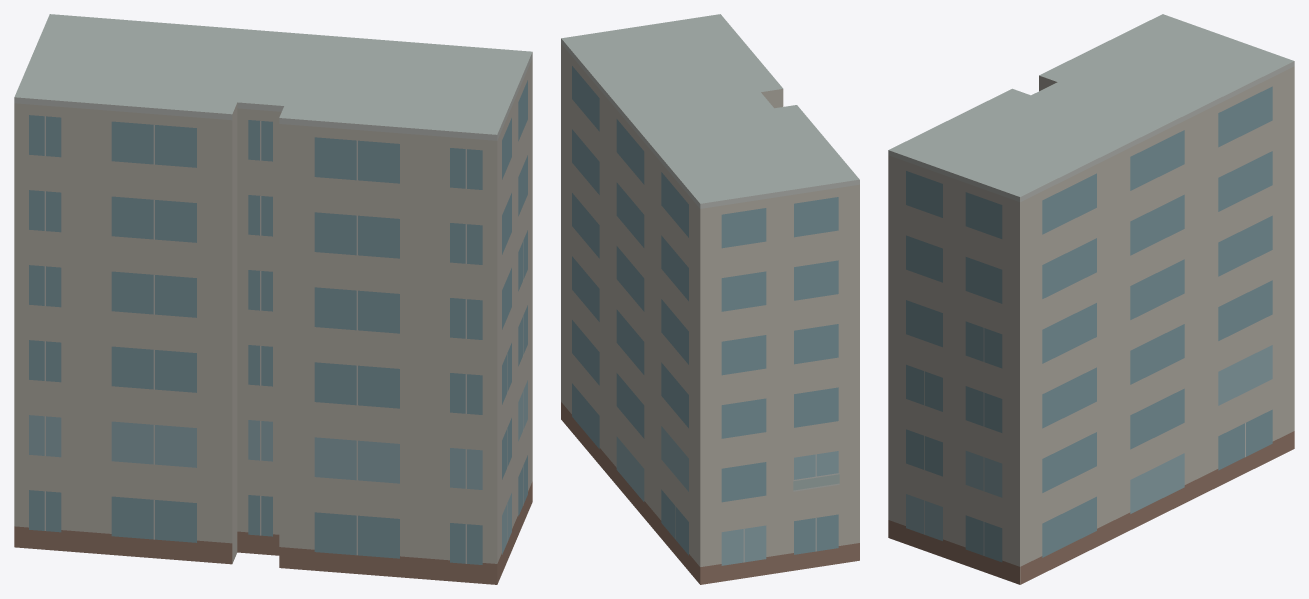
File: survey-upis-32649409.glb
The picture shows the model from 3 angles, left to right: view 1: azimuth 30°, elevation 25°; view 2: azimuth 150°, elevation 25°; view 3: azimuth 270°, elevation 25°; orthographic projection. The views are drawn at different scales.
Parts seen in each view (by area): view 1: survey-upis-32649409.tmp; view 2: survey-upis-32649409.tmp; view 3: survey-upis-32649409.tmp.
Part boxes in pixels (x1,y1,x2,y2): survey-upis-32649409.tmp: (14,14,532,584); survey-upis-32649409.tmp: (561,14,859,584); survey-upis-32649409.tmp: (888,14,1294,584).
Size of the model in its own units: 18.54 by 18.3 by 17.38.
